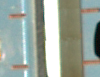border: (80, 7, 100, 15), (9, 63, 31, 70), (81, 58, 100, 66), (6, 13, 28, 19)
